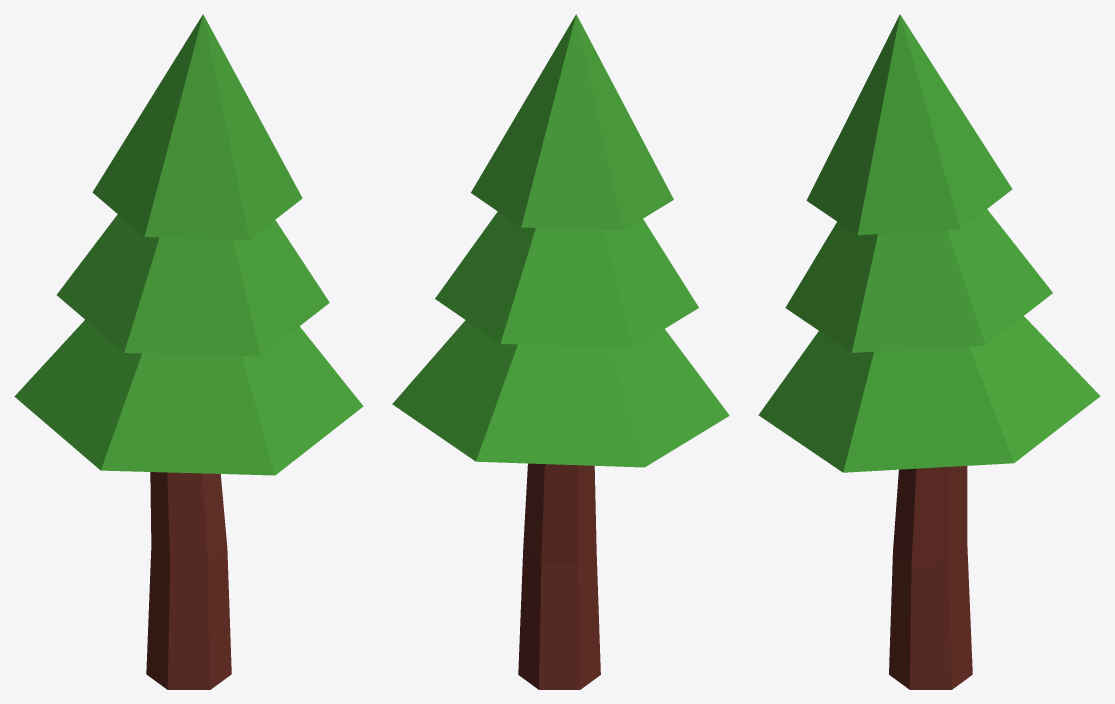
Rendered from Pine2.fbx.
The picture shows the model from 3 angles, left to right: view 1: azimuth 30°, elevation 25°; view 2: azimuth 150°, elevation 25°; view 3: azimuth 270°, elevation 25°; orthographic projection. The views are drawn at different scales.
Parts seen in each view (by area): view 1: Pine2; view 2: Pine2; view 3: Pine2.
Boxes of the visible parts, box(x1,y1,x2,y2) form: Pine2: box(14, 14, 363, 689); Pine2: box(392, 14, 729, 689); Pine2: box(758, 14, 1100, 689).
Bounding box in the file's own units: 805 × 1966 × 924.
